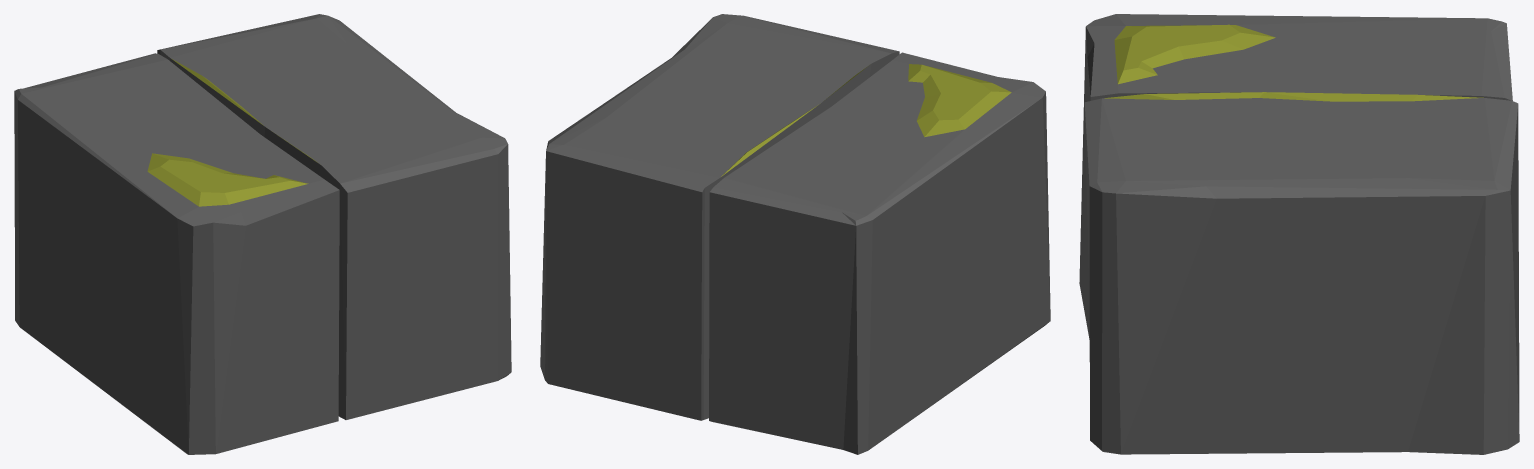
The model's file is tile_squared_moss_type_5_LOD1.fbx.
3 views of the same model, side by side, from view 1: azimuth 30°, elevation 25°; view 2: azimuth 150°, elevation 25°; view 3: azimuth 270°, elevation 25° (orthographic). The views are drawn at different scales.
Visible parts, largest first — view 1: tile_squared_moss_type_5; view 2: tile_squared_moss_type_5; view 3: tile_squared_moss_type_5.
Boxes of the visible parts, x1,y1,x2,y2 form: tile_squared_moss_type_5: (14,14,511,454); tile_squared_moss_type_5: (540,14,1050,454); tile_squared_moss_type_5: (1079,14,1519,454).
Bounding box in the file's own units: 119 × 81.99 × 121.
